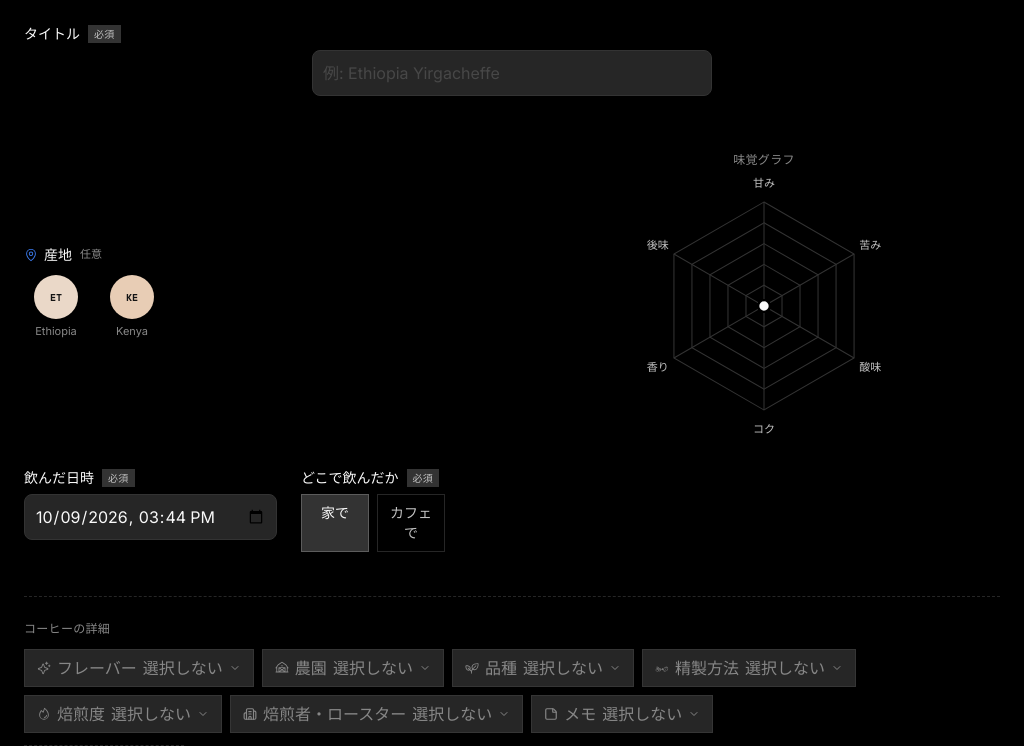
RecordForm › 産地バッジを選ぶと選択状態になり、保存前の発見プレビューが呼ばれる
The image size is (1024, 746).
Click the radio button labelled "Ethiopia".
click(56, 307)  # box [34,275,78,338]
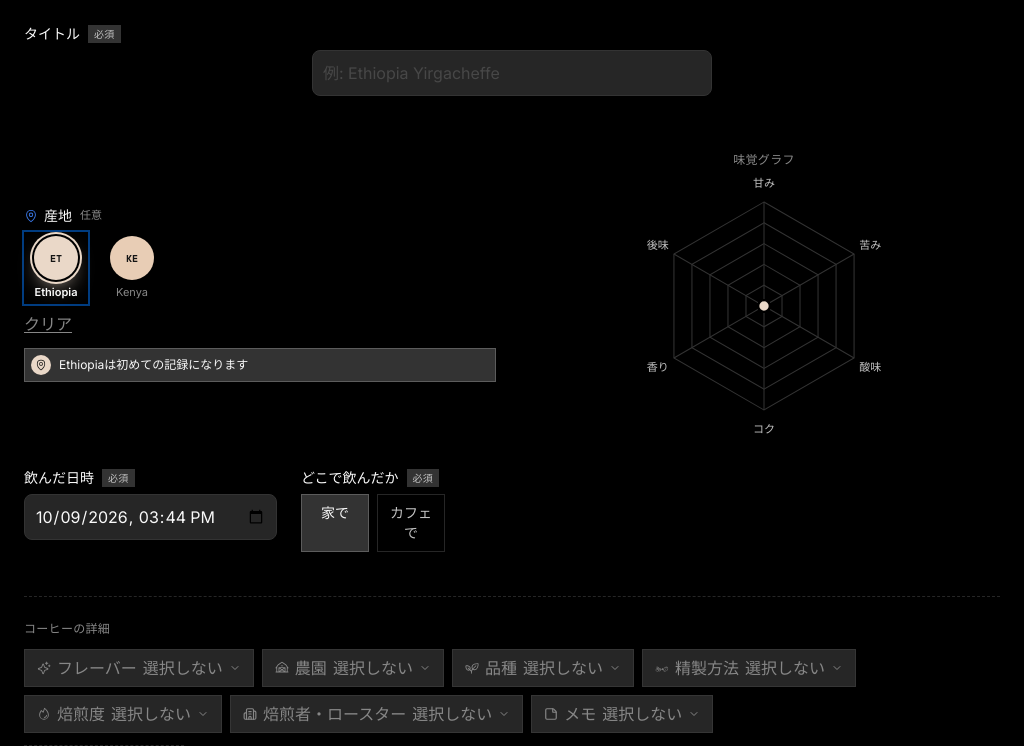
Now the radio button labelled "Ethiopia" is checked, box [24,232,88,304]
Now the message shows "初めての記録になります", box [59,357,248,372]
